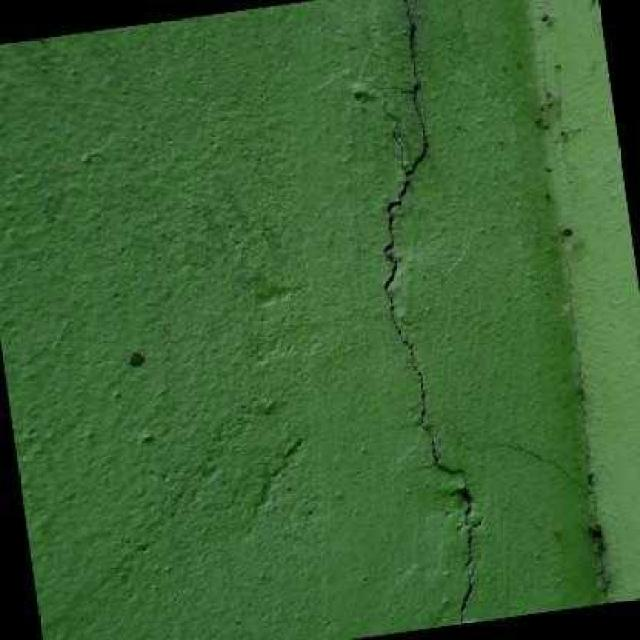D00: (380, 0, 477, 625)
